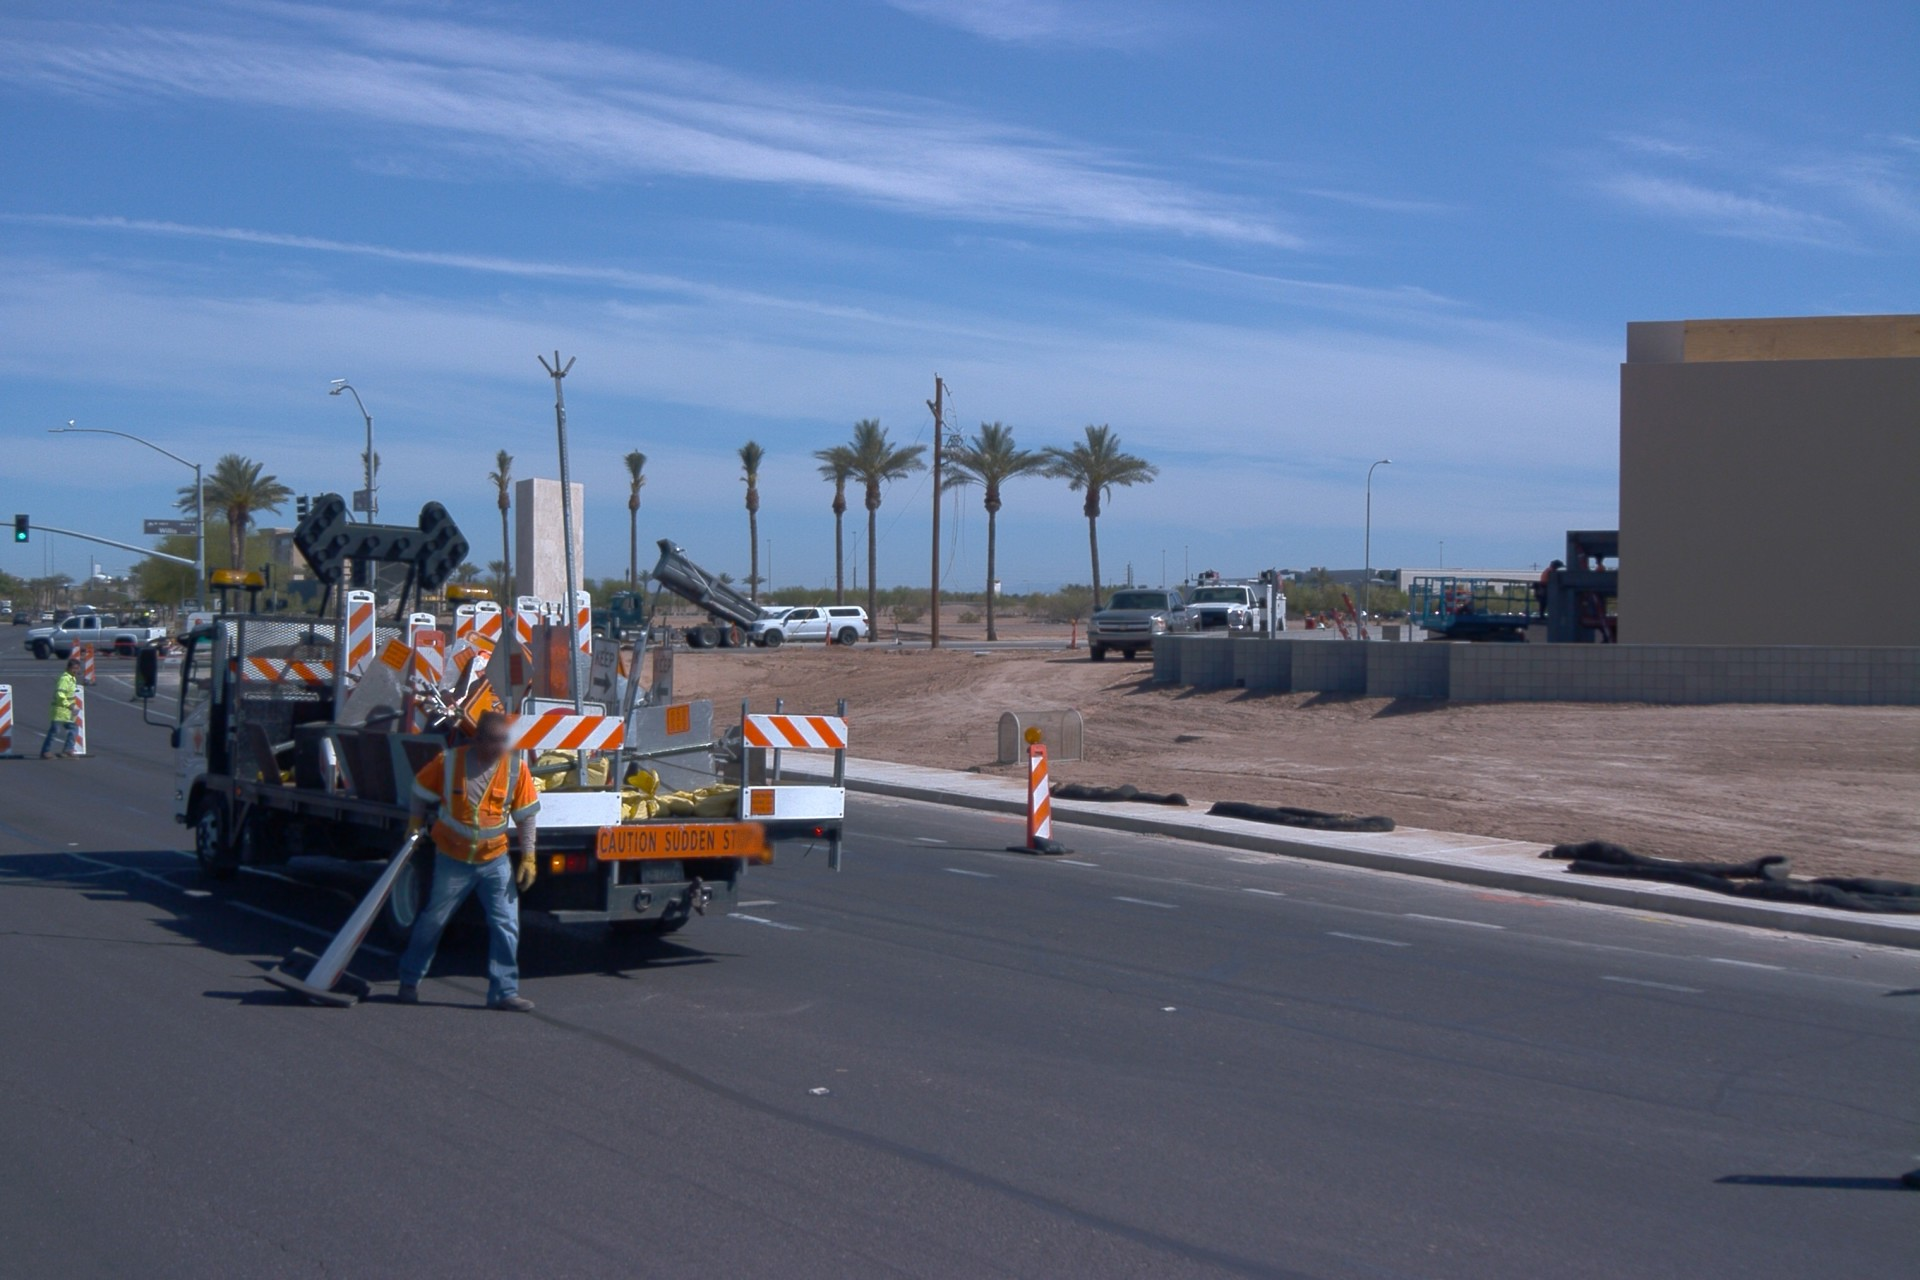TYPE_PEDESTRIAN: (393, 712, 544, 1012), (38, 658, 81, 762), (144, 604, 157, 623)
TYPE_VEHICLE: (131, 339, 850, 963), (589, 535, 767, 651), (1079, 584, 1208, 667), (1176, 563, 1297, 636), (23, 613, 168, 663), (745, 605, 869, 650), (186, 613, 260, 663), (110, 598, 159, 631), (743, 596, 798, 619), (11, 616, 32, 629), (42, 610, 56, 624), (0, 599, 11, 616)
